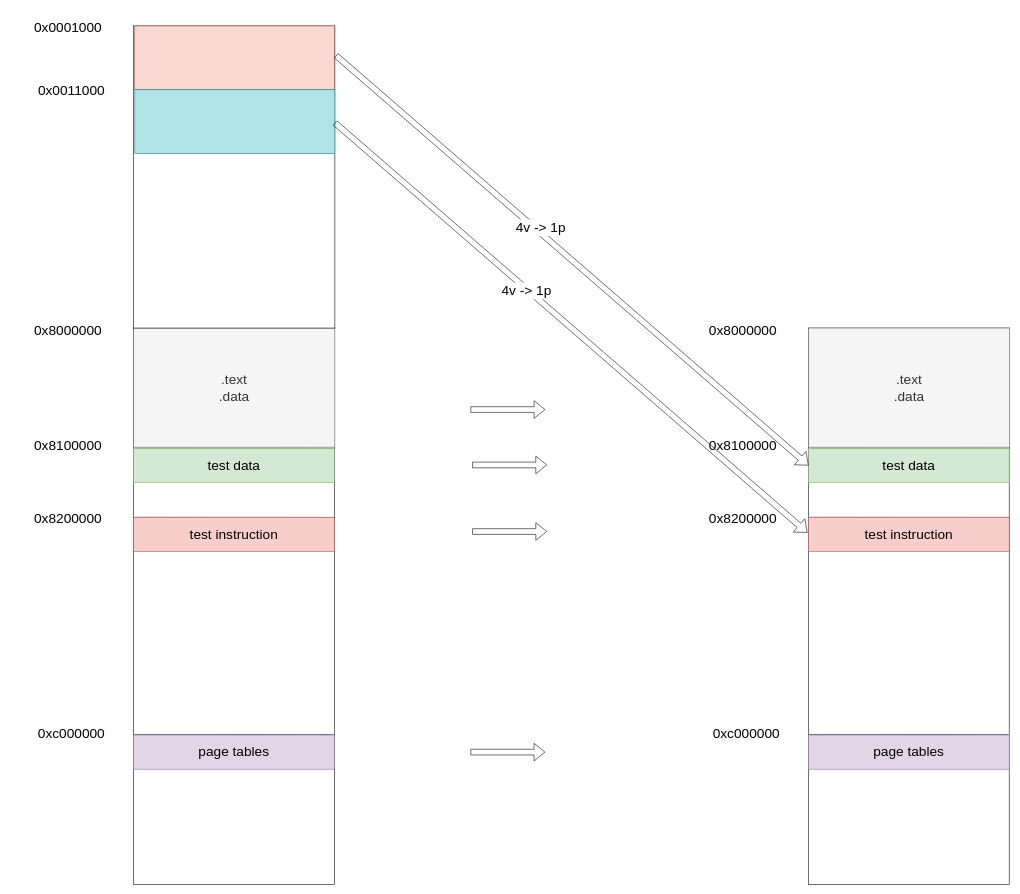
Some shapes in this 1020 by 894 pixel diagram are drawn without their labels. Here are the shapes that lost their labels. From the top down, the centre of each, then its label:
At (x=234, y=57): "vdata".
At (x=234, y=121): "vinstr".
